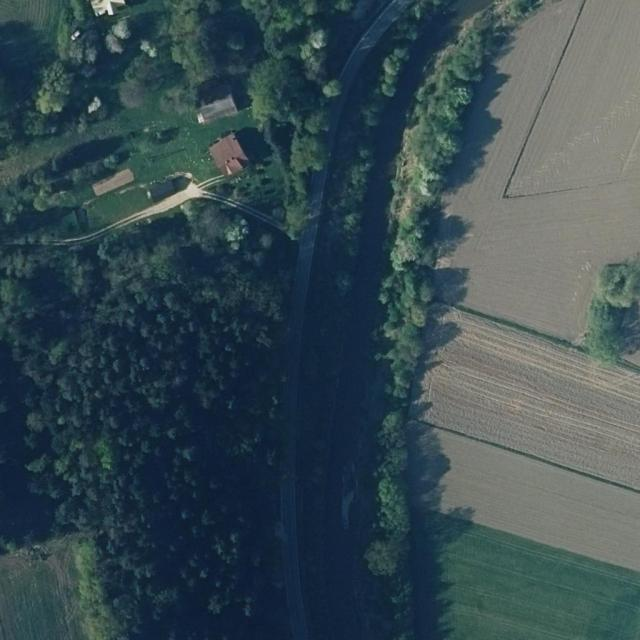agricultural_land: (388, 305, 640, 573), (0, 541, 84, 639), (416, 400, 433, 411), (441, 253, 455, 265), (570, 11, 576, 25), (430, 365, 440, 370), (452, 325, 459, 329), (535, 15, 540, 20), (526, 23, 530, 28)
building: (205, 132, 251, 180), (143, 169, 194, 204), (193, 94, 238, 127), (90, 167, 136, 197), (90, 0, 125, 16)
greenland: (301, 0, 540, 581), (0, 201, 290, 640), (110, 0, 372, 178), (302, 0, 447, 310), (0, 128, 138, 243), (0, 340, 54, 543), (222, 142, 329, 241), (75, 537, 117, 640)
unmetalled_road: (51, 179, 205, 258), (199, 186, 289, 232), (197, 173, 226, 191)
